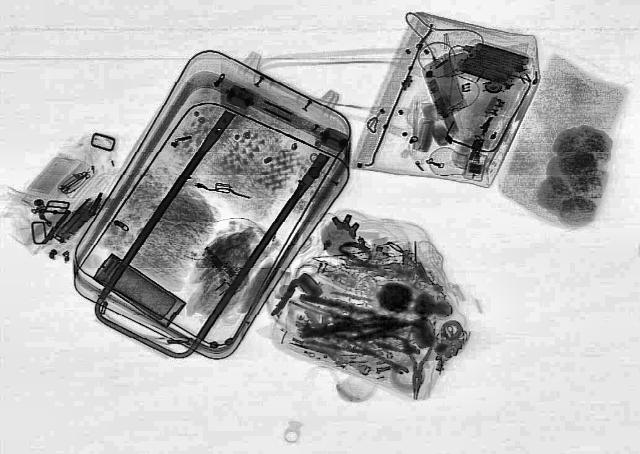Pliers: (398, 328, 436, 398)
Wrench: (346, 337, 412, 377)
